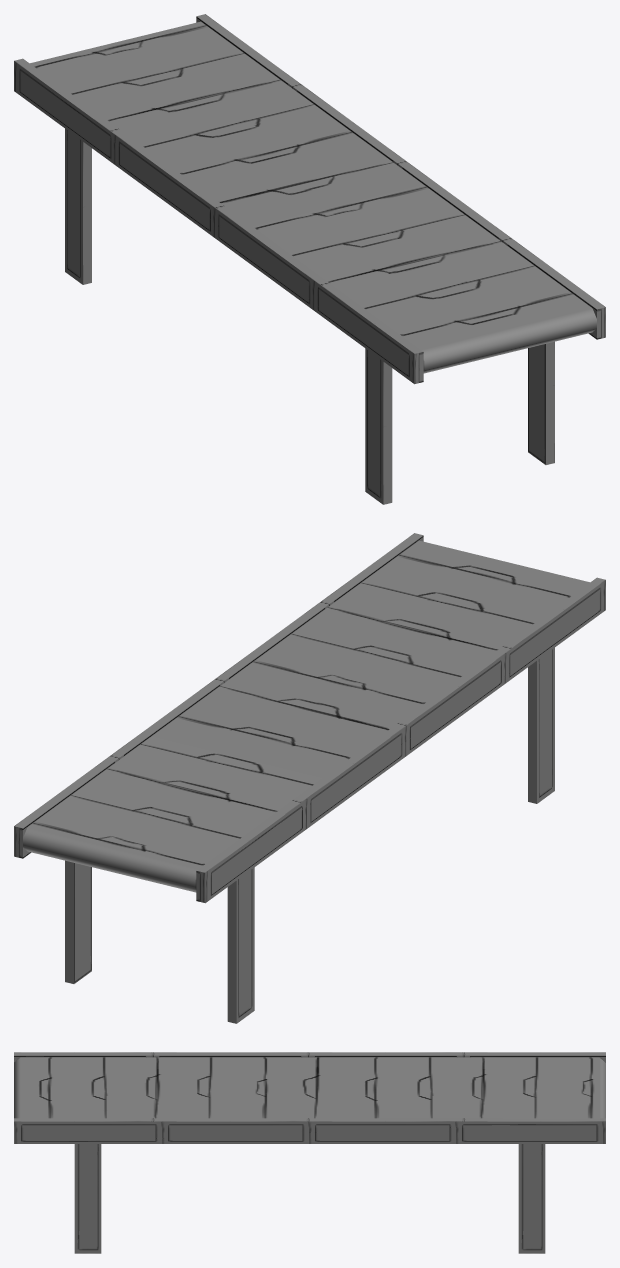
The model's file is conveyor_x4.fbx.
The picture shows the model from 3 angles, top to bottom: view 1: azimuth 30°, elevation 25°; view 2: azimuth 150°, elevation 25°; view 3: azimuth 270°, elevation 25°; orthographic projection. The views are drawn at different scales.
Visible parts, largest first — view 1: conveyor_x4; view 2: conveyor_x4; view 3: conveyor_x4.
Part boxes in pixels (x1,y1,x2,y2): conveyor_x4: [14, 14, 605, 504]; conveyor_x4: [14, 533, 605, 1023]; conveyor_x4: [14, 1052, 605, 1253].
Size of the model in its own units: 1.1 by 4 by 1.01.
